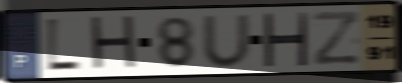8: (152, 15, 197, 69)
H: (88, 13, 140, 74), (261, 12, 310, 68)
L: (43, 16, 83, 75)
U: (200, 12, 254, 69)
Z: (310, 9, 362, 68)
